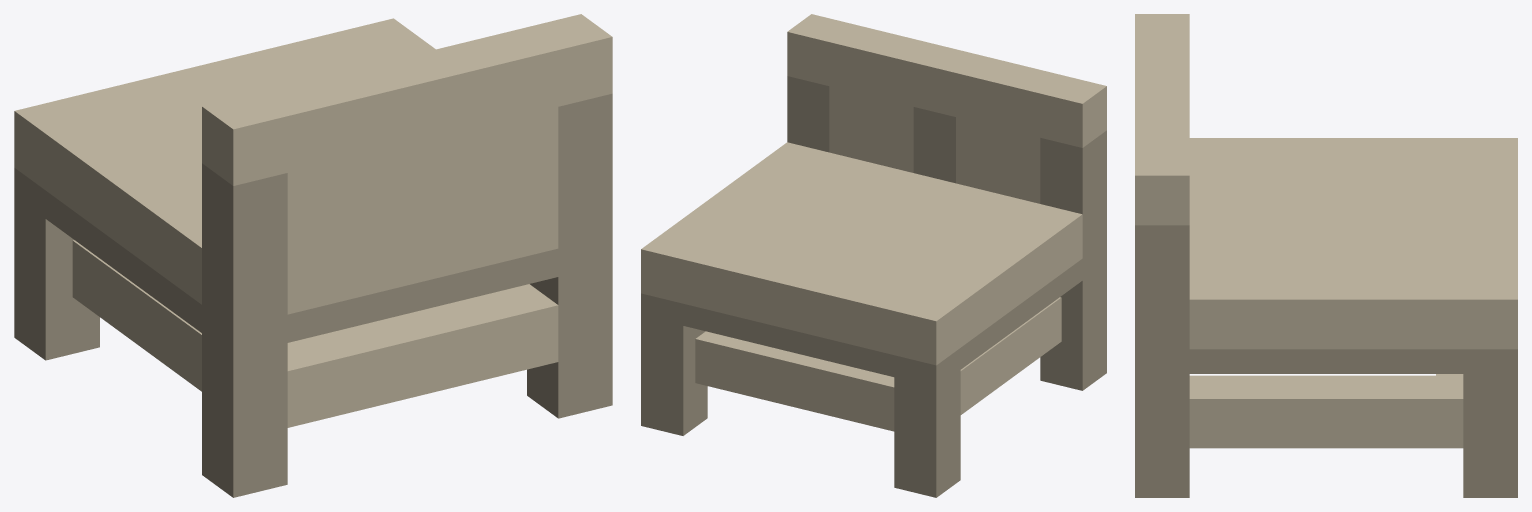
File: reclinatorio_chopo_01.glb
The picture shows the model from 3 angles, left to right: view 1: azimuth 30°, elevation 25°; view 2: azimuth 150°, elevation 25°; view 3: azimuth 270°, elevation 25°; orthographic projection. The views are drawn at different scales.
Visible parts, largest first — view 1: reclinatorio_chopo; view 2: reclinatorio_chopo; view 3: reclinatorio_chopo.
Part boxes in pixels (bbox=[...]): reclinatorio_chopo: bbox=[14, 14, 612, 497]; reclinatorio_chopo: bbox=[641, 14, 1106, 497]; reclinatorio_chopo: bbox=[1135, 14, 1517, 497].
Size of the model in its own units: 1 by 0.9286 by 1.
